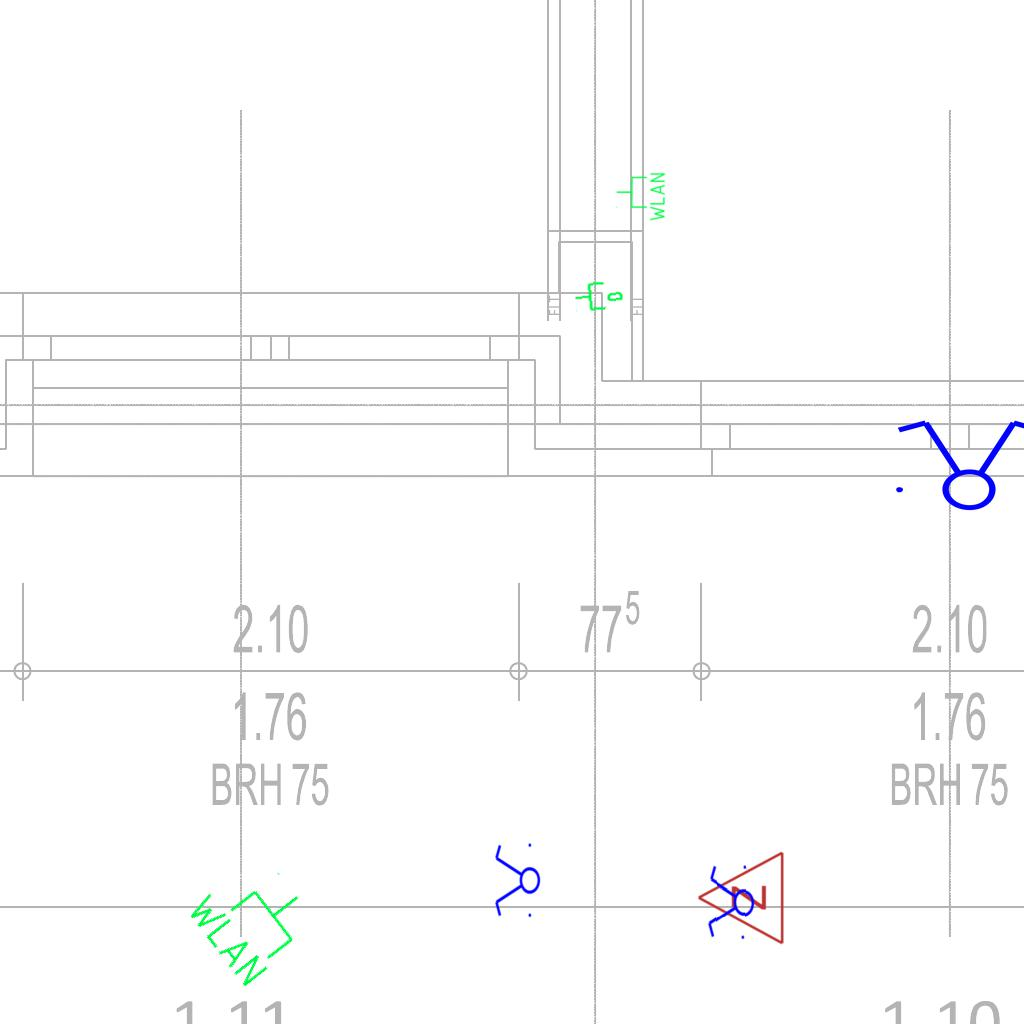Datenanschluss_einfach: (572, 275, 626, 315)
Serienschalter: (884, 416, 1024, 512), (705, 860, 757, 946), (493, 839, 541, 923)
WLAN: (179, 846, 327, 993), (615, 171, 667, 223)
Zimmersignalleuchte: (691, 850, 791, 948)
